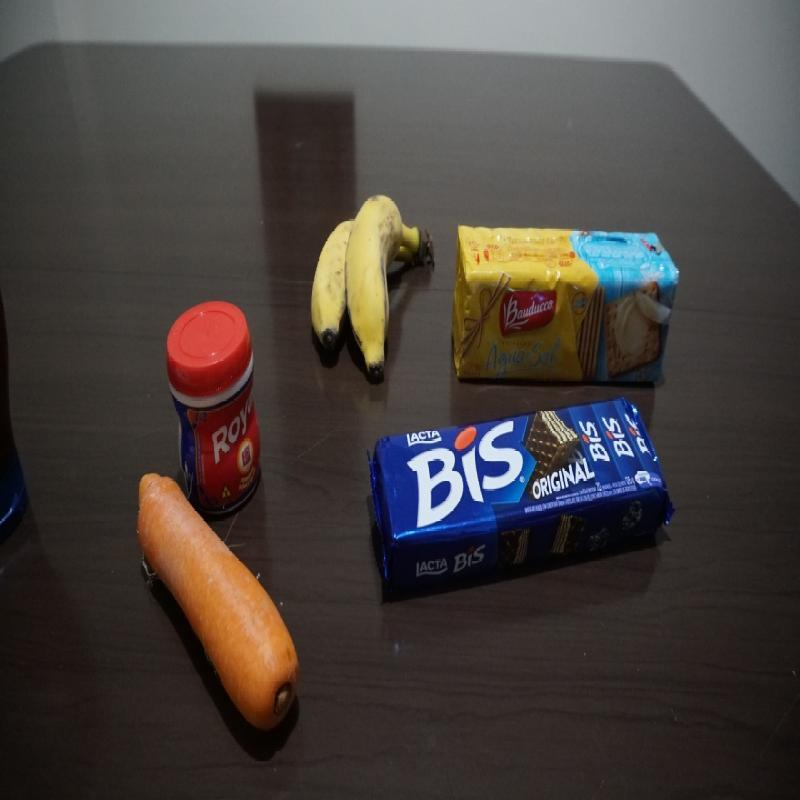Banana: (309, 194, 434, 394)
Carrot: (134, 468, 302, 740)
Cracker: (451, 220, 681, 386)
Ketchup: (0, 284, 28, 553)
Yeast: (165, 296, 264, 520)
